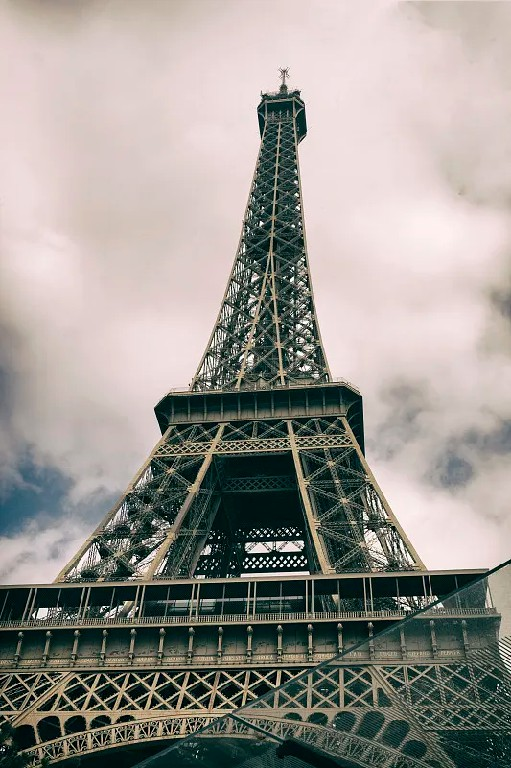Eiffel: (1, 68, 511, 768)
